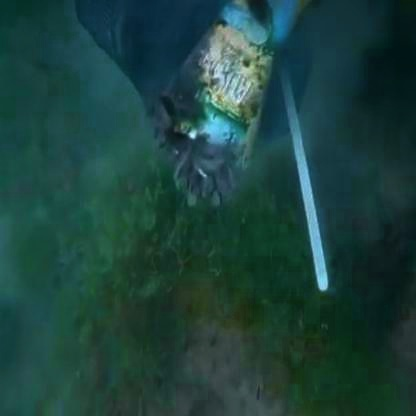plastic: (137, 23, 287, 206)
